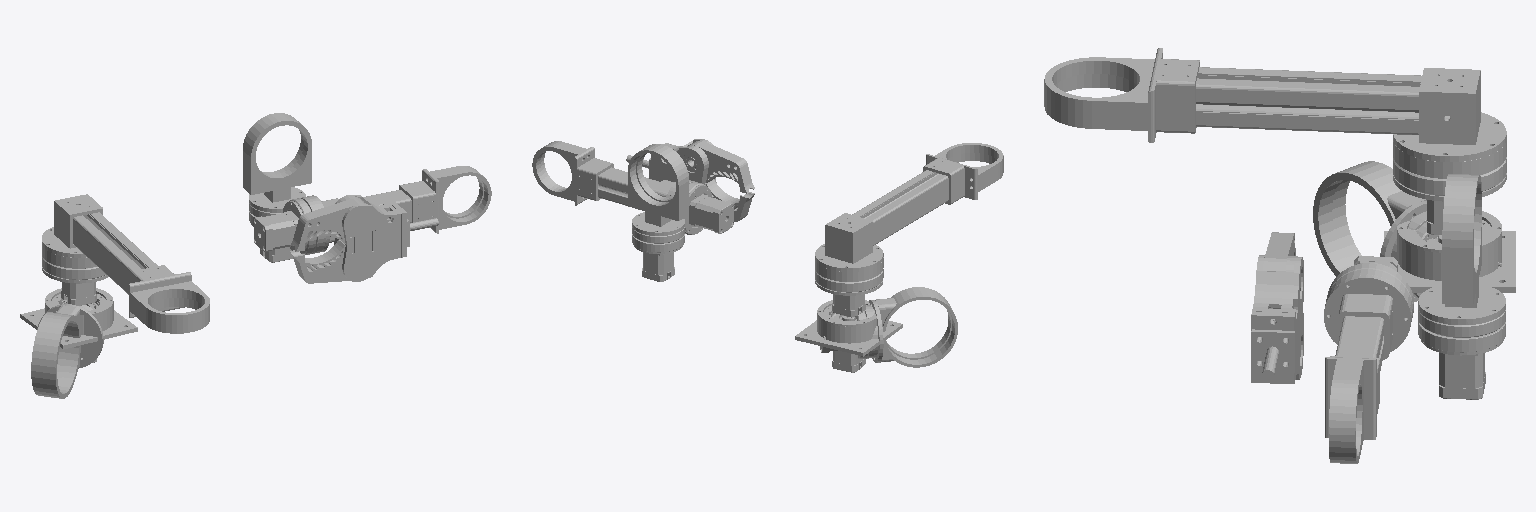
The robot description file, URDF, robot "SPEAR_Arm":
<?xml version="1.0" encoding="utf-8"?>
<!-- This URDF was automatically created by SolidWorks to URDF Exporter! Originally created by [author] ([email redacted]) 
     Commit Version: 1.6.0-4-g7f85cfe  Build Version: 1.6.7995.38578
     For more information, please see http://wiki.ros.org/sw_urdf_exporter -->
<robot
  name="SPEAR_Arm">
  <link
    name="base_link">
    <inertial>
      <origin
        xyz="3.16799867477683E-17 9.21749145776317E-17 -0.00623708097620095"
        rpy="0 0 0" />
      <mass
        value="0.692524123906466" />
      <inertia
        ixx="0.00137416635128141"
        ixy="-3.33415978209264E-19"
        ixz="1.38782870903349E-20"
        iyy="0.00137416635128141"
        iyz="9.49244932547869E-20"
        izz="0.0025458973618602" />
    </inertial>
    <visual>
      <origin
        xyz="0 0 0"
        rpy="0 0 0" />
      <geometry>
        <mesh
          filename="package://description/meshes/base_link.STL" />
      </geometry>
      <material
        name="">
        <color
          rgba="0.752941176470588 0.752941176470588 0.752941176470588 1" />
      </material>
    </visual>
    <collision>
      <origin
        xyz="0 0 -0.015"
        rpy="0 0 0" />
      <geometry>
        <box size = "0.128 0.128 0.07"/>
      </geometry>
    </collision>
  </link>
  <link
    name="base_joint">
    <inertial>
      <origin
        xyz="0.0396864881982836 -0.000199483171229487 0.000203916910570974"
        rpy="0 0 0" />
      <mass
        value="1.47738507112296" />
      <inertia
        ixx="0.00173644836892209"
        ixy="5.04000250358313E-06"
        ixz="-5.50880537488887E-06"
        iyy="0.00156626480987519"
        iyz="-0.000250260146305554"
        izz="0.00161124015763902" />
    </inertial>
    <visual>
      <origin
        xyz="0 0 0"
        rpy="0 0 0" />
      <geometry>
        <mesh
          filename="package://description/meshes/base_joint.STL" />
      </geometry>
      <material
        name="">
        <color
          rgba="0.752941176470588 0.752941176470588 0.752941176470588 1" />
      </material>
    </visual>
    <collision>
      <origin
        xyz="0.12 0 0"
        rpy="0 0 0" />
      <geometry>
        <box size= "0.121 0.11 0.11"/>
      </geometry>
    </collision>
  </link>
  <joint
    name="Shoulder Roll"
    type="continuous">
    <origin
      xyz="0 0 0"
      rpy="0.740762263510472 -1.5707963267949 0" />
    <parent
      link="base_link" />
    <child
      link="base_joint" />
    <axis
      xyz="1 0 0" />
  </joint>
  <link
    name="link_1">
    <inertial>
      <origin
        xyz="0.0201107904068754 -0.000699793106638869 -0.0571172260543161"
        rpy="0 0 0" />
      <mass
        value="3.44363478464573" />
      <inertia
        ixx="0.00845059338877604"
        ixy="1.52776594858077E-07"
        ixz="-6.15113949547405E-06"
        iyy="0.00638861497306379"
        iyz="5.20507537067759E-08"
        izz="0.00306734532619655" />
    </inertial>
    <visual>
      <origin
        xyz="0 0 0"
        rpy="0 0 0" />
      <geometry>
        <mesh
          filename="package://description/meshes/link_1.STL" />
      </geometry>
      <material
        name="">
        <color
          rgba="0.752941176470588 0.752941176470588 0.752941176470588 1" />
      </material>
    </visual>
    <collision>
      <origin
        xyz="0.045 0 -0.23"
        rpy="0 0 0" />
      <geometry>
        <box size= "0.1 0.08 0.14"/>
      </geometry>
    </collision>
  </link>
  <joint
    name="Shoulder Pitch"
    type="revolute">
    <origin
      xyz="0.112 0 0"
      rpy="0 0.830034063284424 1.57079632679488" />
    <parent
      link="base_joint" />
    <child
      link="link_1" />
    <axis
      xyz="-1 0 0" />
    <limit
      lower="-1.0472"
      upper="3.6652"
      effort="0"
      velocity="0" />
  </joint>
  <link
    name="link_2">
    <inertial>
      <origin
        xyz="0.00377731865823253 -1.08701091180302E-05 0.000137137871969006"
        rpy="0 0 0" />
      <mass
        value="1.5153745049325" />
      <inertia
        ixx="0.00151052573041459"
        ixy="4.318673973076E-10"
        ixz="-3.94520702946067E-06"
        iyy="0.000960514355142274"
        iyz="-1.18312010616379E-10"
        izz="0.00129766839873913" />
    </inertial>
    <visual>
      <origin
        xyz="0 0 0"
        rpy="0 0 0" />
      <geometry>
        <mesh
          filename="package://description/meshes/link_2.STL" />
      </geometry>
      <material
        name="">
        <color
          rgba="0.752941176470588 0.752941176470588 0.752941176470588 1" />
      </material>
    </visual>
    <collision>
      <origin
        xyz="0 0 0"
        rpy="0 0 0" />
      <geometry>
        <box size= "0.1 0.08 0.1"/>
      </geometry>
    </collision>
  </link>
  <joint
    name="Elbow Pitch"
    type="revolute">
    <origin
      xyz="0.0428412022704851 -0.000700000000055892 -0.34315000105285"
      rpy="0 0 -3.14159265358978" />
    <parent
      link="link_1" />
    <child
      link="link_2" />
    <axis
      xyz="1 0 0" />
    <limit
      lower="-2.7925"
      upper="1.9722"
      effort="0"
      velocity="0" />
  </joint>
  <link
    name="link_3">
    <inertial>
      <origin
        xyz="0.0654796463911018 -0.000151184620193826 -0.000160482278215801"
        rpy="0 0 0" />
      <mass
        value="2.07375542707273" />
      <inertia
        ixx="0.00161468452783234"
        ixy="1.97123090743411E-06"
        ixz="-1.57472017298584E-10"
        iyy="0.00248003537406924"
        iyz="-2.04818278580273E-07"
        izz="0.00230876885278511" />
    </inertial>
    <visual>
      <origin
        xyz="0 0 0"
        rpy="0 0 0" />
      <geometry>
        <mesh
          filename="package://description/meshes/link_3.STL" />
      </geometry>
      <material
        name="">
        <color
          rgba="0.752941176470588 0.752941176470588 0.752941176470588 1" />
      </material>
    </visual>
    <collision>
      <origin
        xyz="0.21 0 0"
        rpy="0 0 0" />
      <geometry>
        <box size= "0.21 0.08 0.084"/>
      </geometry>
    </collision>
  </link>
  <joint
    name="Elbow Roll"
    type="revolute">
    <origin
      xyz="0.09 0 0"
      rpy="1.5707963267949 1.5707963267949 0" />
    <parent
      link="link_2" />
    <child
      link="link_3" />
    <axis
      xyz="1 0 0" />
    <limit
      lower="-3.1416"
      upper="3.1416"
      effort="0"
      velocity="0" />
  </joint>
  <link
    name="link_4">
    <inertial>
      <origin
        xyz="0.0665147333833135 6.57060609399601E-05 -0.00829151281291829"
        rpy="0 0 0" />
      <mass
        value="1.56472201375409" />
      <inertia
        ixx="0.00274365868526142"
        ixy="4.97483377943942E-08"
        ixz="-1.08082401323012E-06"
        iyy="0.00236577011230846"
        iyz="-2.86764704557576E-09"
        izz="0.00122113820715794" />
    </inertial>
    <visual>
      <origin
        xyz="0 0 0"
        rpy="0 0 0" />
      <geometry>
        <mesh
          filename="package://description/meshes/link_4.STL" />
      </geometry>
      <material
        name="">
        <color
          rgba="0.752941176470588 0.752941176470588 0.752941176470588 1" />
      </material>
    </visual>
    <collision>
      <origin
        xyz="0.085 0 0"
        rpy="0 0 0" />
      <geometry>
        <box size= "0.08 0.082 0.16"/>
      </geometry>
    </collision>
  </link>
  <joint
    name="Wrist Pitch"
    type="revolute">
    <origin
      xyz="0.25884999894715 -0.00284120227048547 0.000299999999948689"
      rpy="-1.57079632679492 0 1.5707963267949" />
    <parent
      link="link_3" />
    <child
      link="link_4" />
    <axis
      xyz="-1 0 0" />
    <limit
      lower="-2.7576"
      upper="2.6704"
      effort="0"
      velocity="0" />
  </joint>
  <link
    name="link_5">
    <inertial>
      <origin
        xyz="0.70125955361708 -0.00360770807542265 0.00601989780117211"
        rpy="0 0 0" />
      <mass
        value="0.750967399035288" />
      <inertia
        ixx="0.000580115693570658"
        ixy="2.85026358587835E-05"
        ixz="3.44034905741974E-05"
        iyy="0.00106973660677863"
        iyz="1.48522113054278E-05"
        izz="0.000644136496032607" />
    </inertial>
    <visual>
      <origin
        xyz="-0.28 0 0"
        rpy="0 0 0" />
      <geometry>
        <mesh
          filename="package://description/meshes/link_5.STL" />
      </geometry>
      <material
        name="">
        <color
          rgba="0.752941176470588 0.752941176470588 0.752941176470588 1" />
      </material>
    </visual>
    <collision>
      <origin
        xyz="-0.04 0 0"
        rpy="0 0 0" />
      <geometry>
        <box size= "0.16 0.08 0.14"/>
      </geometry>
    </collision>
  </link>
  <joint
    name="Wrist Roll"
    type="continuous">
    <origin
      xyz="0.09 0.00300000000000089 -0.25"
      rpy="1.57079632679489 1.5707963267949 0" />
    <parent
      link="link_4" />
    <child
      link="link_5" />
    <axis
      xyz="1 0 0" />
    <limit
      lower="0"
      upper="0"
      effort="0"
      velocity="0" />
  </joint>
</robot>

--- What the picture shows (computed from the rendered views, not written in the file) ---
The picture shows the robot from 3 angles, left to right: view 1: azimuth 30°, elevation 25°; view 2: azimuth 150°, elevation 25°; view 3: azimuth 270°, elevation 25°; orthographic projection.
Robot: SPEAR_Arm — 7 links, 6 joints (4 revolute, 2 continuous); root link base_link; default pose: all joints at 0.
Visible links, largest first — view 1: link_1, link_5, link_3, base_joint, link_2, base_link; view 2: link_1, link_3, link_2, link_5, base_link, base_joint; view 3: link_1, link_3, link_2, link_5, base_joint, base_link.
Boxes of the visible links, x1,y1,x2,y2 form: link_1: (42,194,209,333); link_5: (290,195,438,283); link_3: (254,166,491,254); base_joint: (31,303,103,398); link_2: (243,113,311,262); base_link: (20,288,137,362); link_1: (815,143,1003,317); link_3: (532,141,733,234); link_2: (628,144,688,281); link_5: (626,139,754,221); base_link: (795,300,902,372); base_joint: (820,287,957,367); link_1: (1044,48,1506,234); link_3: (1324,256,1413,463); link_2: (1418,174,1505,399); link_5: (1251,232,1303,383); base_joint: (1313,161,1501,301); base_link: (1384,211,1515,292).
Size in the robot's own frame: 0.7807 by 0.4552 by 0.3151 metres.
6 mesh visuals loaded from 7 distinct referenced files (6 binary STL); not drawn: 1 (reference not matched to a file when rendering).